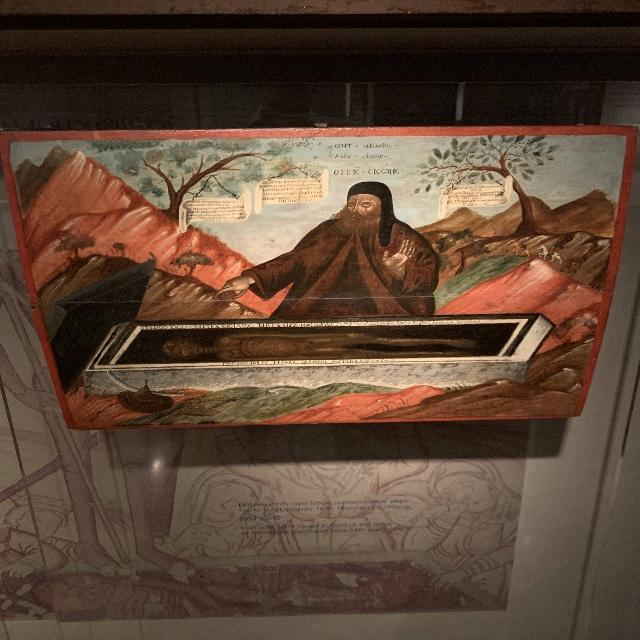saint: (215, 176, 436, 324)
tomb: (87, 317, 555, 389)
